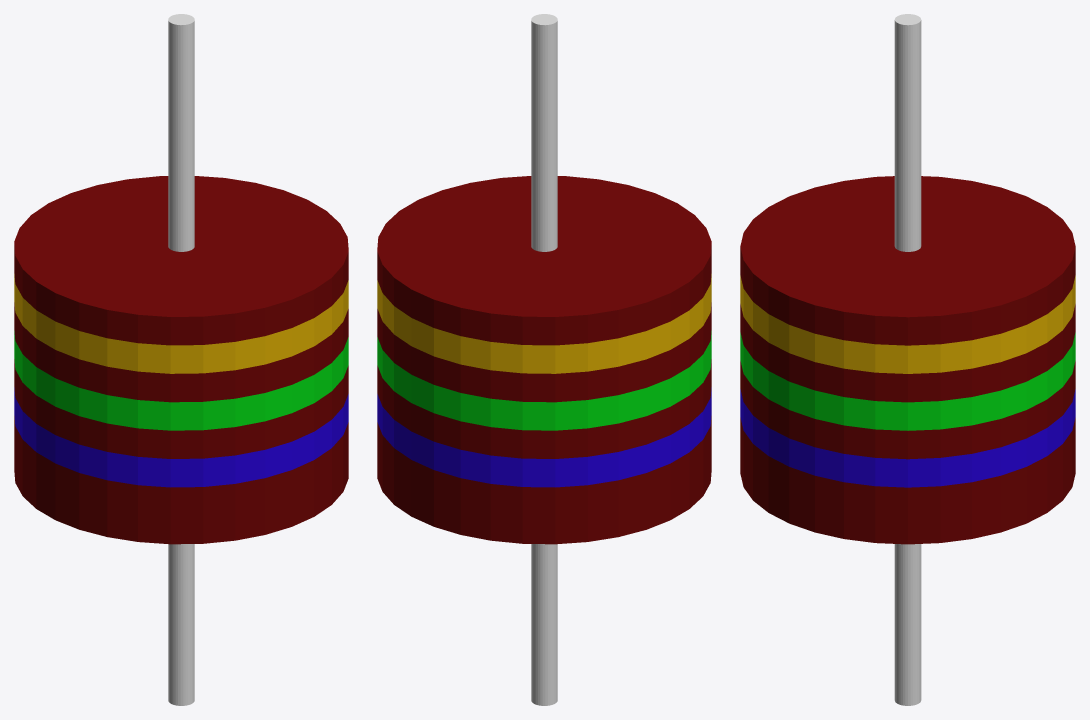
The model's file is resistor.fbx.
3 renders of one model, left to right at view 1: azimuth 30°, elevation 25°; view 2: azimuth 150°, elevation 25°; view 3: azimuth 270°, elevation 25°, orthographic.
Visible parts, largest first — view 1: resistor_main, resistor_wire; view 2: resistor_main, resistor_wire; view 3: resistor_main, resistor_wire.
Part boxes in pixels (<box>): resistor_main: <box>14,176,348,544</box>; resistor_wire: <box>168,14,194,705</box>; resistor_main: <box>377,176,711,544</box>; resistor_wire: <box>531,14,557,705</box>; resistor_main: <box>740,176,1075,544</box>; resistor_wire: <box>894,14,921,705</box>.
Bounding box in the file's own units: 648 × 1452 × 648.
